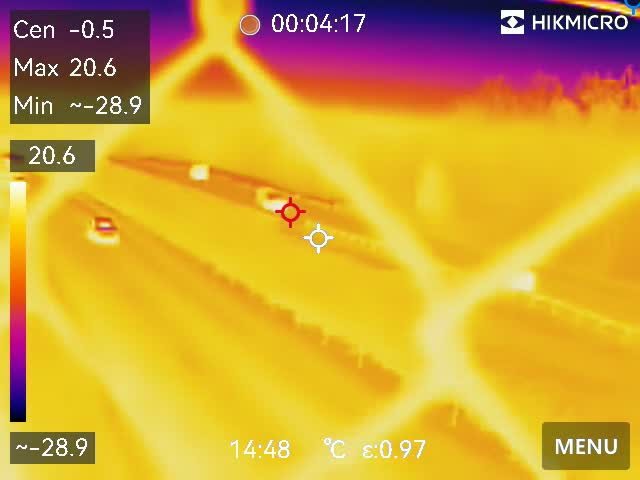smallCar: (76, 208, 118, 240)
